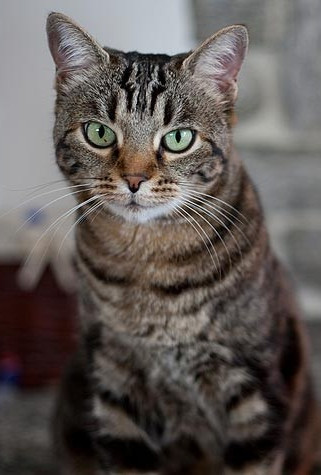cat: (0, 0, 321, 475)
